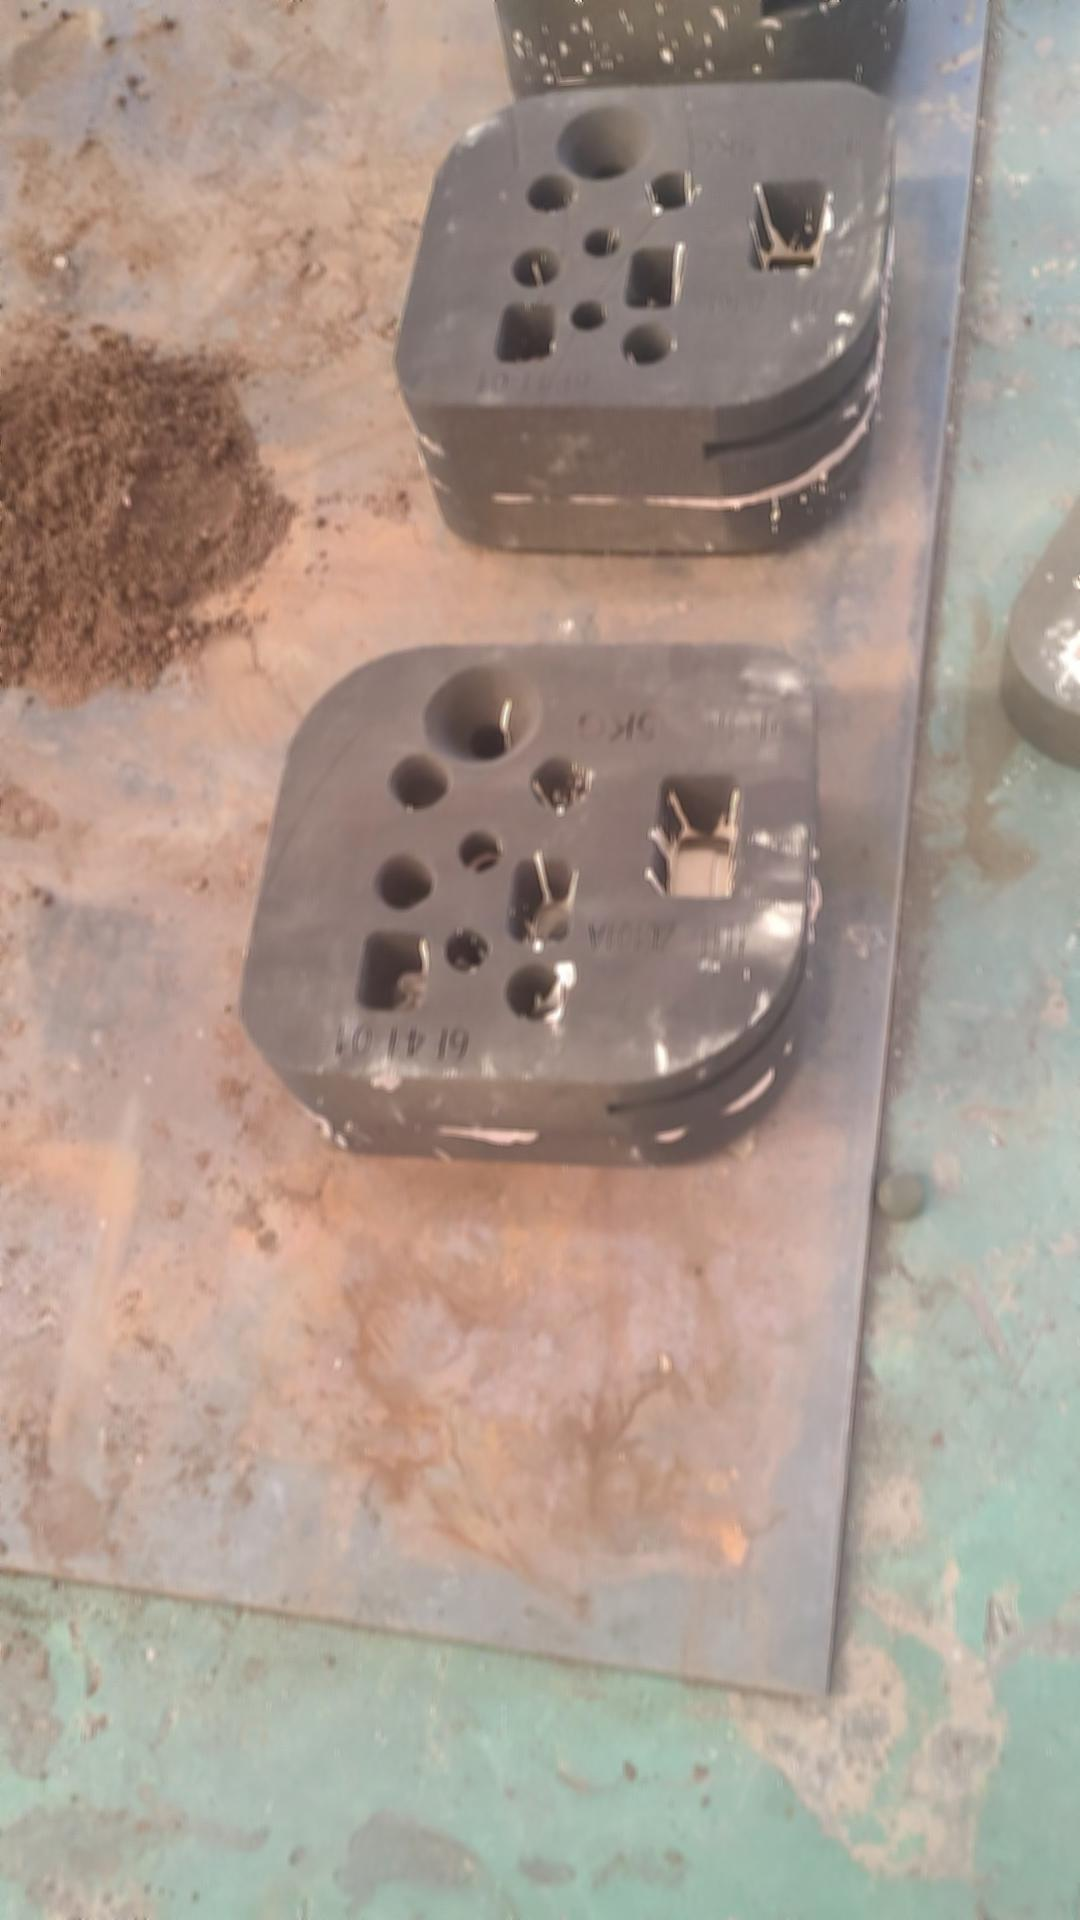pouring hole: (421, 665, 541, 765), (555, 102, 653, 179)
